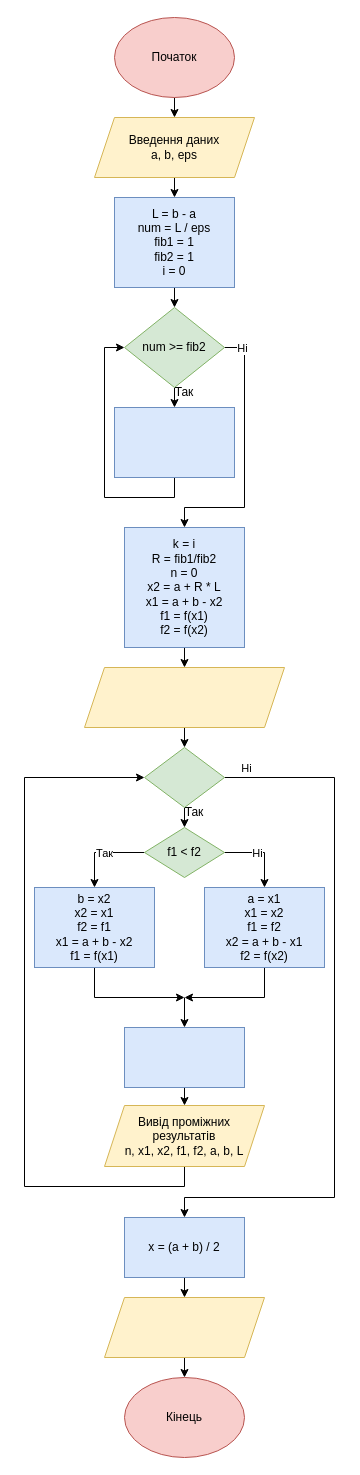
Image size: 360x1475. Some labels were removed from this diagram. Here are the shapes that lost their labels. From the top down, the centre of each, then its label:
At (x=174, y=442): "fib_sum = fib1 + fib2 fib1 = fib2 fib2 = fib_sum i = i + 1".
At (x=184, y=697): "Вивід початкових даних a, b, L".
At (x=184, y=777): "k >= n".
At (x=184, y=1057): "L = b - a n++".
At (x=184, y=1327): "Вивід x".
